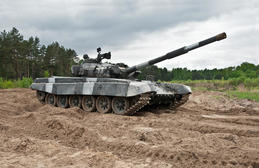t72: (31, 34, 221, 112)
